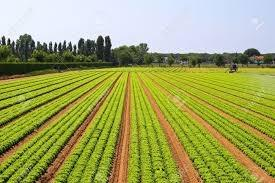field: (0, 68, 274, 182)
